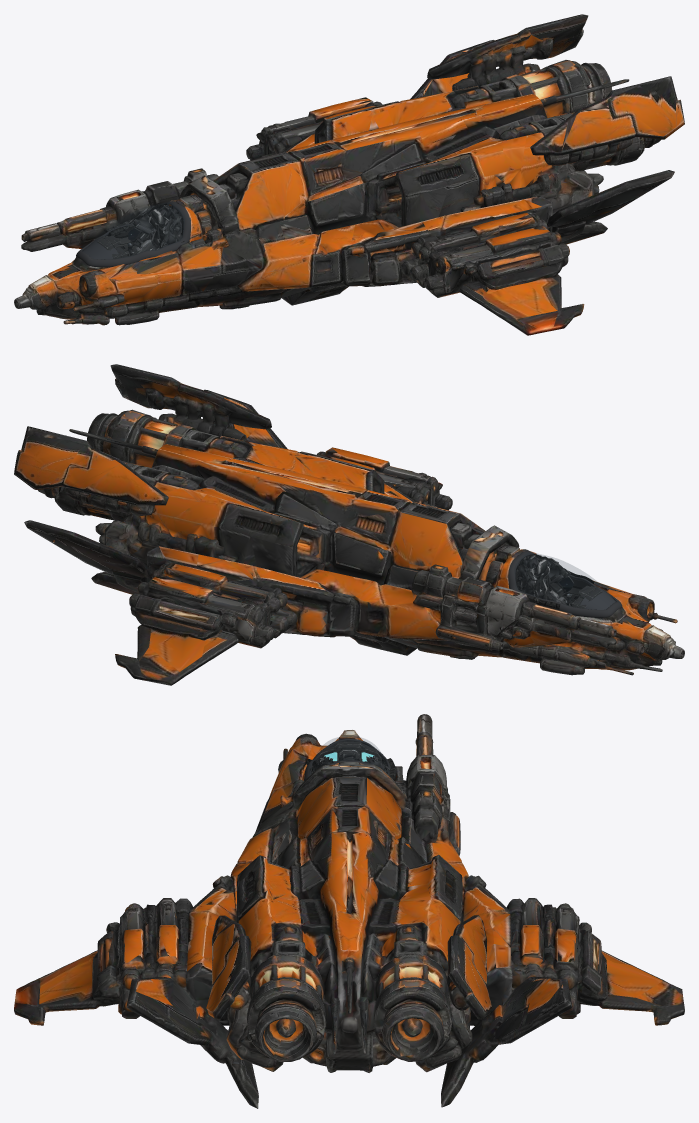
The model's file is tracker.glb.
3 views of the same model, one above another, from view 1: azimuth 30°, elevation 25°; view 2: azimuth 150°, elevation 25°; view 3: azimuth 270°, elevation 25° (orthographic). The views are drawn at different scales.
Parts seen in each view (by area): view 1: tracker_game_hull, tracker_game_glass, tracker_game_cockpit, tracker_game_canopy_frame; view 2: tracker_game_hull, tracker_game_glass, tracker_game_cockpit, tracker_game_canopy_frame, tracker_game_tub; view 3: tracker_game_hull, tracker_game_glass, tracker_game_console, tracker_game_cockpit.
Boxes of the visible parts, x1=… form: tracker_game_hull: x1=14, y1=14, x2=684, y2=335; tracker_game_glass: x1=82, y1=203, x2=184, y2=259; tracker_game_cockpit: x1=127, y1=203, x2=182, y2=256; tracker_game_canopy_frame: x1=76, y1=201, x2=190, y2=267; tracker_game_hull: x1=14, y1=364, x2=684, y2=685; tracker_game_glass: x1=515, y1=553, x2=616, y2=609; tracker_game_cockpit: x1=517, y1=554, x2=573, y2=606; tracker_game_canopy_frame: x1=508, y1=551, x2=622, y2=617; tracker_game_tub: x1=516, y1=555, x2=615, y2=606; tracker_game_hull: x1=14, y1=714, x2=684, y2=1108; tracker_game_glass: x1=309, y1=736, x2=389, y2=774; tracker_game_console: x1=316, y1=741, x2=381, y2=764; tracker_game_cockpit: x1=309, y1=750, x2=389, y2=773.
Bounding box in the file's own units: 1.9 × 0.5075 × 1.46.
Materials: 9 (5 with a texture image).
